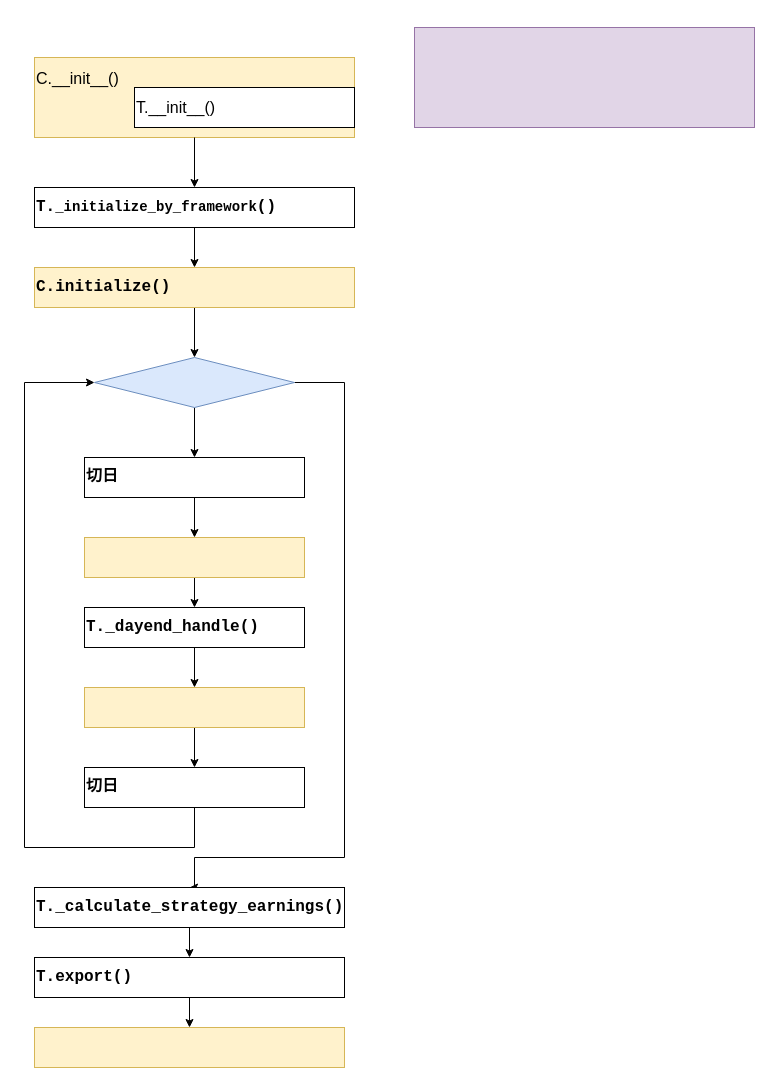
The diagram is 772 pixels wide and 1085 high, and some of its shapes have lost their labels. Here are the shapes that lost their labels. From the top down, the centre of each, then its label:
At (584,77): "图例 T.xxx 回测框架函数 C.xxx 客户端必须继承实现的函数".
At (194,382): "按交易日循环".
At (194,557): "C.date_handle()".
At (194,707): "C.after_day_handle()".
At (189,1047): "C.end()".
